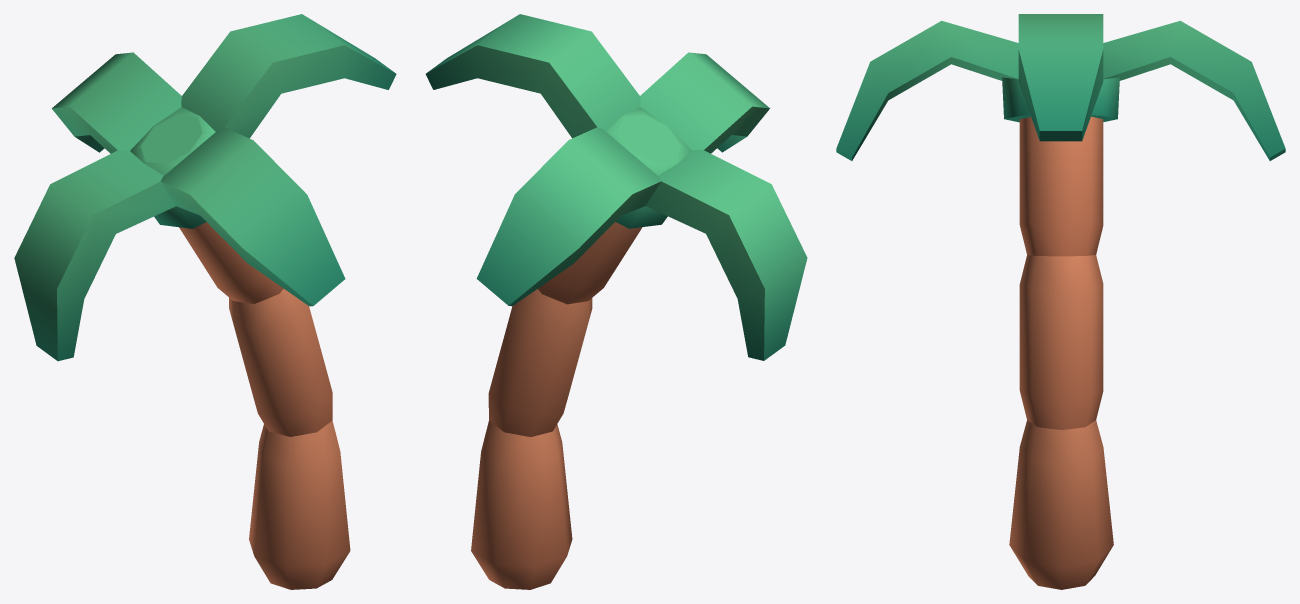
The model's file is palm_1.fbx.
3 views of the same model, side by side, from view 1: azimuth 30°, elevation 25°; view 2: azimuth 150°, elevation 25°; view 3: azimuth 270°, elevation 25° (orthographic).
Parts seen in each view (by area): view 1: palm_1; view 2: palm_1; view 3: palm_1.
Boxes of the visible parts, x1,y1,x2,y2 form: palm_1: (14, 14, 396, 589); palm_1: (425, 14, 807, 589); palm_1: (836, 14, 1285, 589).
Size of the model in its own units: 2.88 by 4.25 by 3.22.
Materials: 1 (1 with a texture image).
